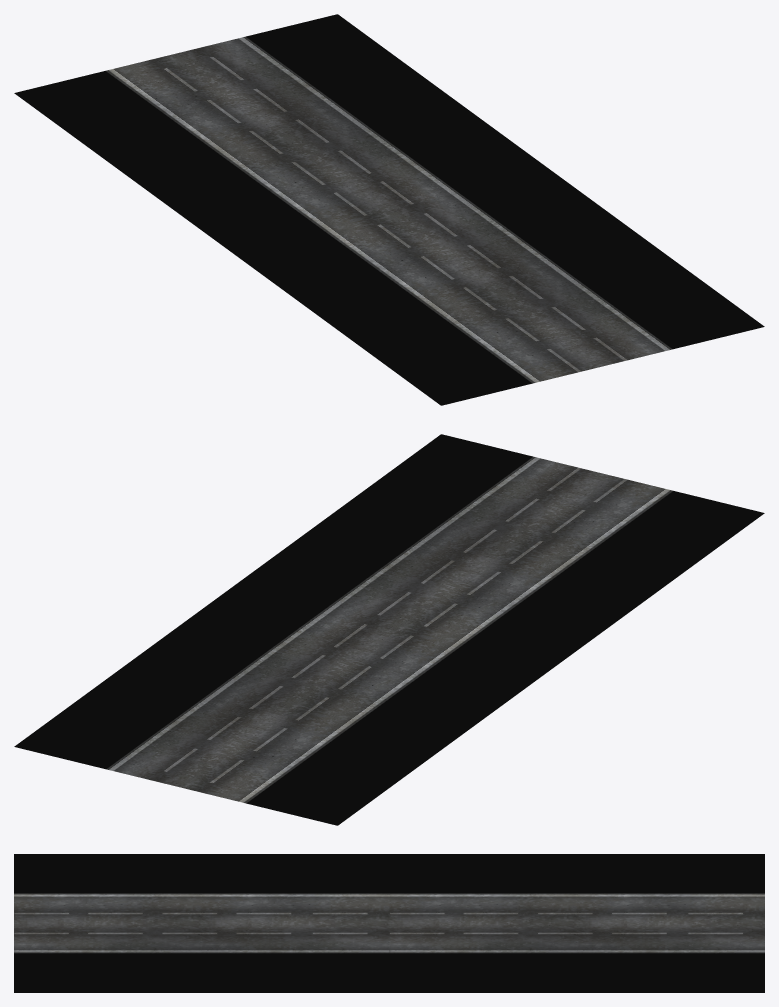
Rendered from MapFloor.FBX.
3 views of the same model, one above another, from view 1: azimuth 30°, elevation 25°; view 2: azimuth 150°, elevation 25°; view 3: azimuth 270°, elevation 25° (orthographic). The views are drawn at different scales.
Visible parts, largest first — view 1: MapFloor; view 2: MapFloor; view 3: MapFloor.
Boxes of the visible parts, <box> form: MapFloor: <box>14,14,764,405</box>; MapFloor: <box>14,434,764,825</box>; MapFloor: <box>14,854,764,992</box>.
Size of the model in its own units: 70 by 9.8e-15 by 160.
